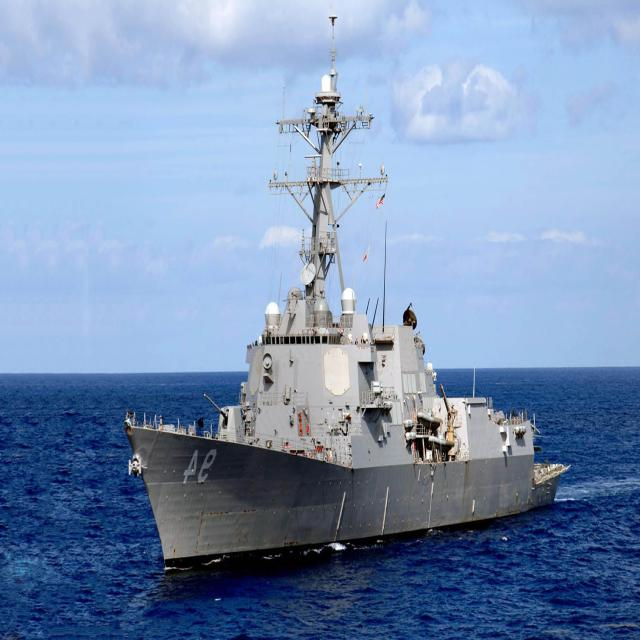navalvessels: (109, 66, 570, 614)
